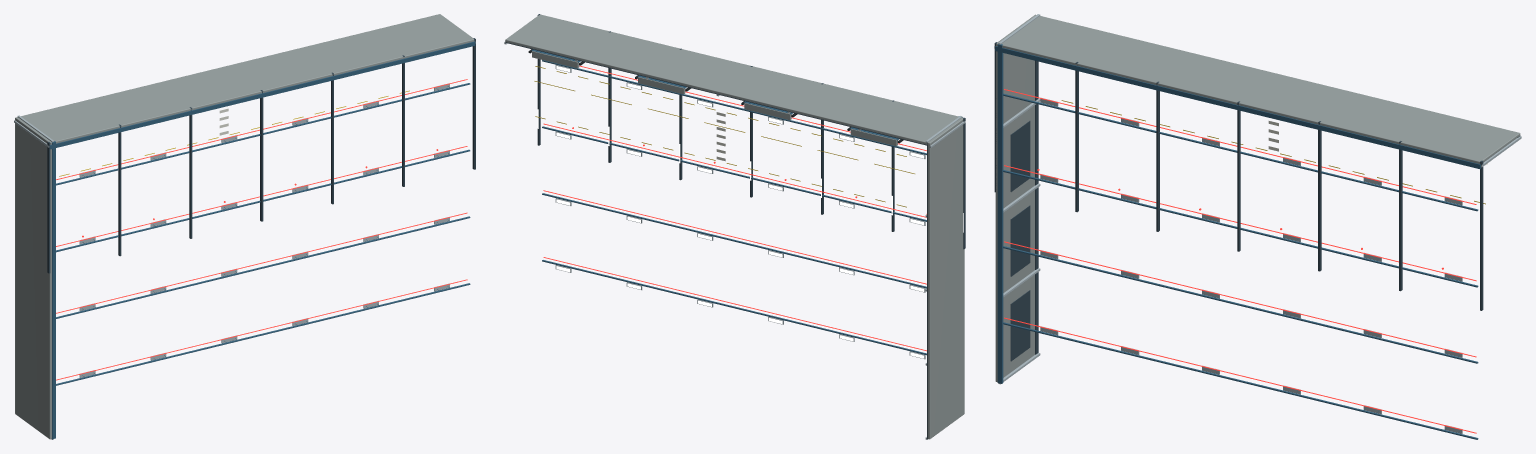
File: hero_warehouse_shell.glb
The picture shows the model from 3 angles, left to right: view 1: azimuth 30°, elevation 25°; view 2: azimuth 150°, elevation 25°; view 3: azimuth 330°, elevation 25°; orthographic projection. The views are drawn at different scales.
Parts seen in each view (by area): view 1: Rear wall structural base, Left wall structural base, Roof edge beam rear, Roof edge beam side, Suspended roof truss, Suspended roof truss.001, Suspended roof truss.003, Suspended roof truss.002, Fire suppression main, Fire suppression main.001, Fire suppression main.003, Fire suppression main.002 (+5 smaller); view 2: Rear wall structural base, Left wall structural base, Suspended roof truss, Suspended roof truss.001, Suspended roof truss.002, Suspended roof truss.003, Rear wall dark plinth, Fire suppression main, Fire suppression main.001, Fire suppression main.002; view 3: Rear wall structural base, Left wall structural base, Roof edge beam rear, Roof edge beam side, Suspended roof truss, Suspended roof truss.001, Suspended roof truss.002, Suspended roof truss.003, Wall lateral inset, Wall lateral inset.001, Wall lateral inset.002, Left wall dark plinth (+10 smaller).
Part boxes in pixels (left/top/right/bottom): Rear wall structural base: left=17, top=14, right=474, bottom=144; Left wall structural base: left=15, top=117, right=51, bottom=439; Roof edge beam rear: left=49, top=41, right=475, bottom=149; Roof edge beam side: left=51, top=141, right=55, bottom=439; Suspended roof truss: left=56, top=283, right=470, bottom=385; Suspended roof truss.001: left=56, top=216, right=470, bottom=318; Suspended roof truss.003: left=56, top=83, right=470, bottom=185; Suspended roof truss.002: left=56, top=149, right=470, bottom=252; Fire suppression main: left=56, top=279, right=467, bottom=380; Fire suppression main.001: left=56, top=212, right=467, bottom=313; Fire suppression main.003: left=56, top=79, right=467, bottom=179; Fire suppression main.002: left=56, top=146, right=467, bottom=246; Rear wall structural base: left=505, top=14, right=962, bottom=144; Left wall structural base: left=927, top=117, right=964, bottom=439; Suspended roof truss: left=542, top=260, right=926, bottom=355; Suspended roof truss.001: left=542, top=193, right=926, bottom=288; Suspended roof truss.002: left=542, top=126, right=926, bottom=221; Suspended roof truss.003: left=542, top=60, right=926, bottom=154; Rear wall dark plinth: left=505, top=42, right=927, bottom=145; Fire suppression main: left=543, top=257, right=926, bottom=351; Fire suppression main.001: left=543, top=190, right=926, bottom=284; Fire suppression main.002: left=543, top=123, right=926, bottom=217; Rear wall structural base: left=996, top=16, right=1520, bottom=163; Left wall structural base: left=995, top=14, right=1035, bottom=382; Roof edge beam rear: left=995, top=46, right=1480, bottom=169; Roof edge beam side: left=997, top=44, right=1003, bottom=383; Suspended roof truss: left=1003, top=322, right=1478, bottom=439; Suspended roof truss.001: left=1003, top=246, right=1478, bottom=363; Suspended roof truss.002: left=1003, top=170, right=1478, bottom=287; Suspended roof truss.003: left=1003, top=93, right=1478, bottom=211; Wall lateral inset: left=1010, top=290, right=1030, bottom=361; Wall lateral inset.001: left=1010, top=205, right=1030, bottom=276; Wall lateral inset.002: left=1010, top=121, right=1030, bottom=191; Left wall dark plinth: left=1035, top=60, right=1038, bottom=354.
Bounding box in the file's own units: 60.28 × 40.28 × 8.59.
